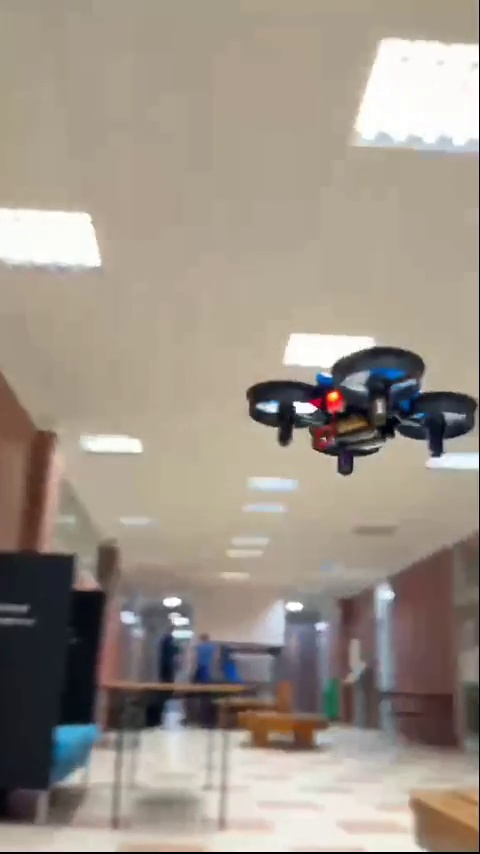drone: (250, 346, 474, 474)
no vest: (191, 621, 227, 692), (150, 623, 178, 681)
